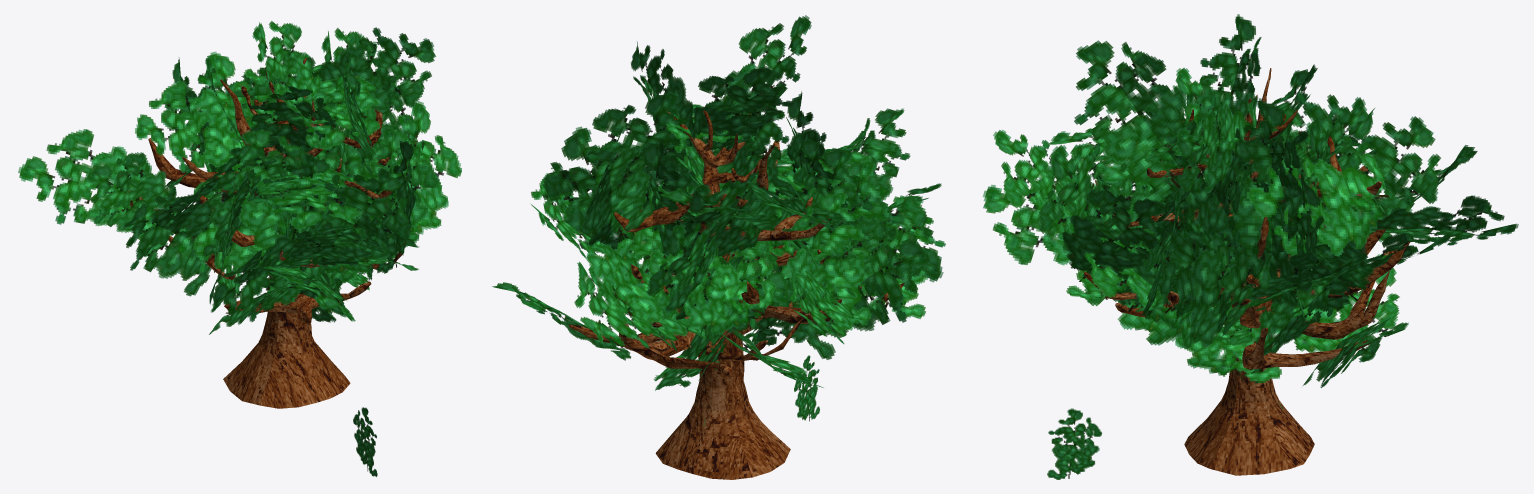
Rendered from appletree1.glb.
The picture shows the model from 3 angles, left to right: view 1: azimuth 30°, elevation 25°; view 2: azimuth 150°, elevation 25°; view 3: azimuth 270°, elevation 25°; orthographic projection. The views are drawn at different scales.
Visible parts, largest first — view 1: tree-branch-pxl (×35), Cube, tree-branch-pxl2; view 2: tree-branch-pxl (×37), Cube, tree-branch-pxl2; view 3: tree-branch-pxl (×39), Cube, tree-branch-pxl2.
Part boxes in pixels (bbox=[...]): tree-branch-pxl (×35): bbox=[18, 21, 461, 334]; Cube: bbox=[128, 58, 402, 408]; tree-branch-pxl2: bbox=[353, 407, 377, 476]; tree-branch-pxl (×37): bbox=[492, 15, 945, 390]; Cube: bbox=[569, 107, 904, 479]; tree-branch-pxl2: bbox=[794, 355, 819, 421]; tree-branch-pxl (×39): bbox=[983, 14, 1518, 387]; Cube: bbox=[1083, 68, 1410, 475]; tree-branch-pxl2: bbox=[1047, 408, 1101, 479].
Size of the model in its own units: 5.81 by 6.26 by 6.86.
Materials: 3 (3 with a texture image).
